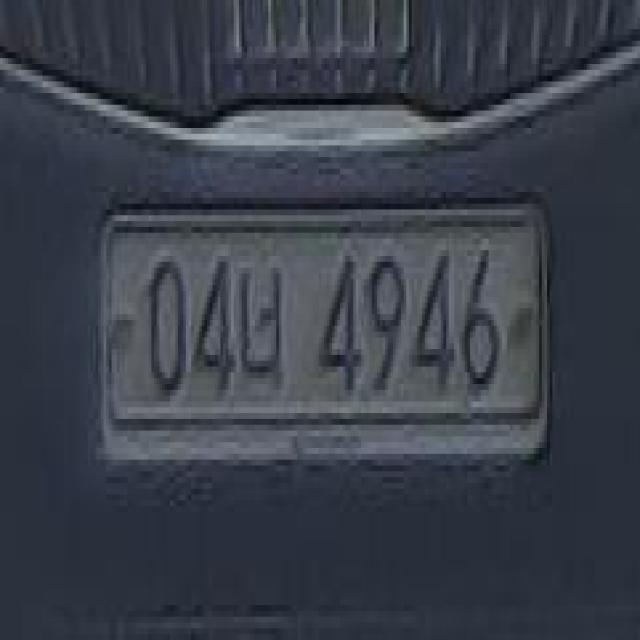illegal_plate: (94, 195, 552, 474)
